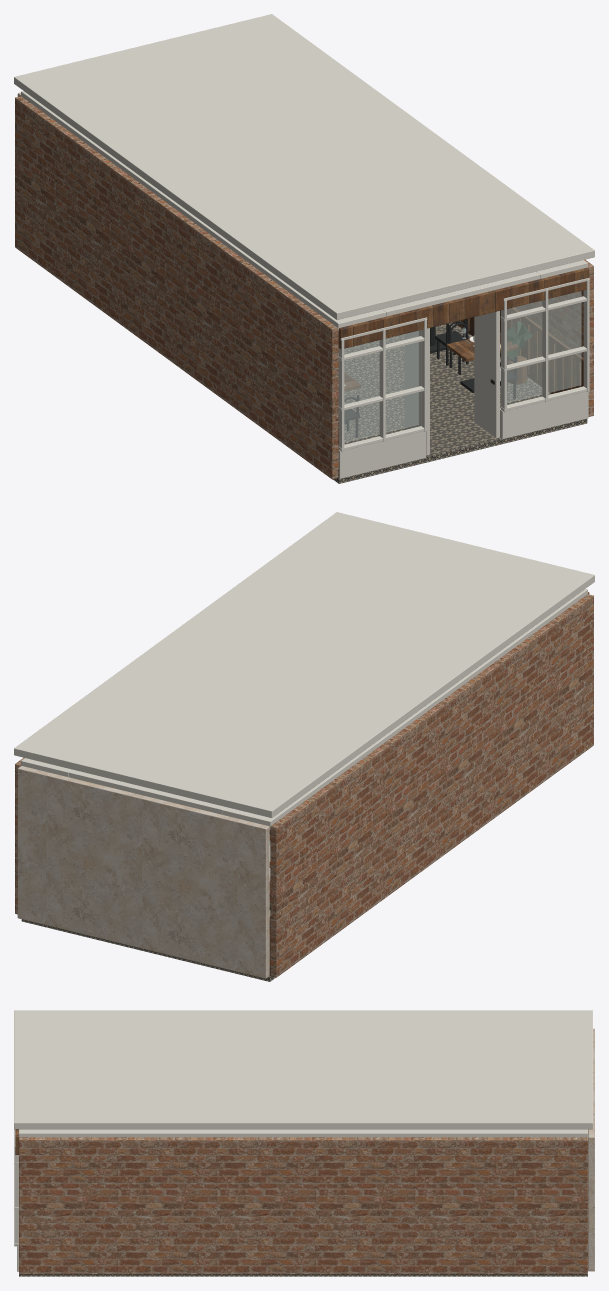
Rendered from pasta-bar.glb.
3 renders of one model, top to bottom at view 1: azimuth 30°, elevation 25°; view 2: azimuth 150°, elevation 25°; view 3: azimuth 270°, elevation 25°, orthographic. The views are drawn at different scales.
Visible parts, largest first — view 1: pasta-bar cream, pasta-bar brick, pasta-bar glass, pasta-bar floor, pasta-bar wood, pasta-bar black; view 2: pasta-bar cream, pasta-bar brick, pasta-bar plaster, pasta-bar floor; view 3: pasta-bar brick, pasta-bar cream, pasta-bar floor, pasta-bar plaster.
Part boxes in pixels (x1=…): pasta-bar cream: x1=14, y1=14, x2=594, y2=478; pasta-bar brick: x1=15, y1=96, x2=593, y2=479; pasta-bar glass: x1=344, y1=291, x2=581, y2=442; pasta-bar floor: x1=333, y1=322, x2=587, y2=483; pasta-bar wood: x1=338, y1=267, x2=589, y2=478; pasta-bar black: x1=344, y1=319, x2=517, y2=437; pasta-bar cream: x1=14, y1=512, x2=594, y2=916; pasta-bar brick: x1=15, y1=594, x2=593, y2=977; pasta-bar plaster: x1=17, y1=766, x2=269, y2=978; pasta-bar floor: x1=21, y1=919, x2=275, y2=981; pasta-bar brick: x1=19, y1=1137, x2=587, y2=1274; pasta-bar cream: x1=14, y1=1010, x2=592, y2=1271; pasta-bar floor: x1=19, y1=1274, x2=587, y2=1276; pasta-bar plaster: x1=588, y1=1028, x2=594, y2=1271.
Size of the model in its own units: 5.48 by 3.48 by 11.74.
Materials: 17 (5 with a texture image).
